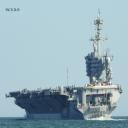Portanaves: (7, 8, 125, 123)
